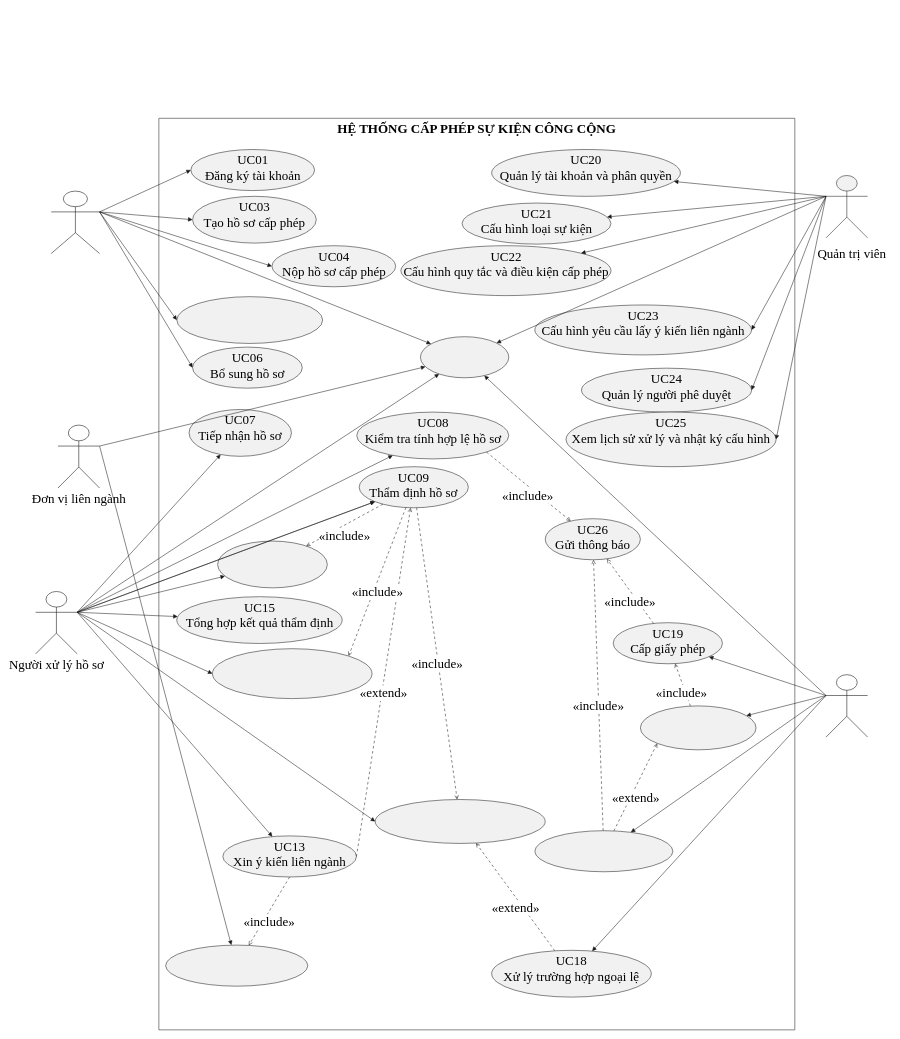
The diagram is 900 pixels wide and 1039 high, and some of its shapes have lost their labels. Here are the shapes that lost their labels. From the top down, the centre of each, then its label:
point (75, 222): Người tổ chức sự kiện
point (249, 319): UC05 Theo dõi trạng thái hồ sơ
point (464, 357): UC02 Đăng nhập
point (272, 564): UC10 Kiểm tra địa điểm
point (292, 673): UC11 Kiểm tra phương án an toàn
point (847, 705): Người phê duyệt
point (698, 727): UC16 Phê duyệt cấp phép
point (460, 821): UC12 Kiểm tra điều kiện cấp phép
point (603, 851): UC17 Từ chối cấp phép
point (236, 965): UC14 Gửi ý kiến liên ngành
